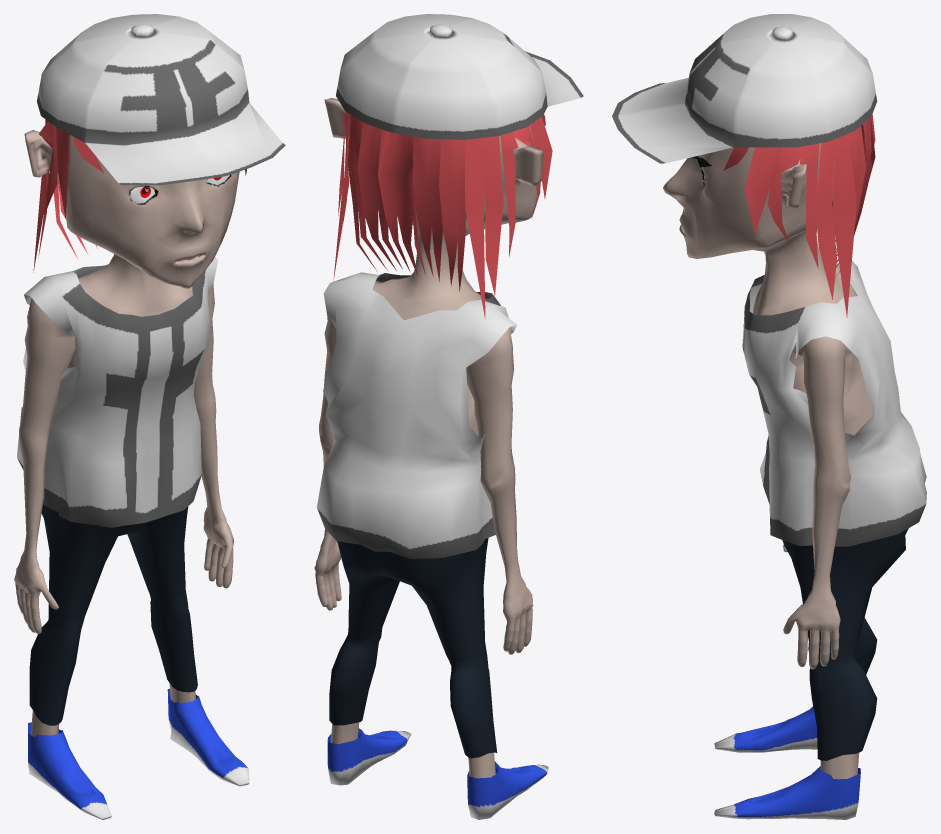
File: 3player_olay _1Material.obj
3 renders of one model, left to right at view 1: azimuth 30°, elevation 25°; view 2: azimuth 150°, elevation 25°; view 3: azimuth 270°, elevation 25°, orthographic.
Visible parts, largest first — view 1: OlayCap; view 2: OlayCap; view 3: OlayCap.
Part boxes in pixels (x1,y1,x2,y2): OlayCap: [14, 14, 285, 819]; OlayCap: [314, 14, 583, 819]; OlayCap: [612, 14, 926, 819].
Size of the model in its own units: 0.5684 by 1.9 by 0.7192.
